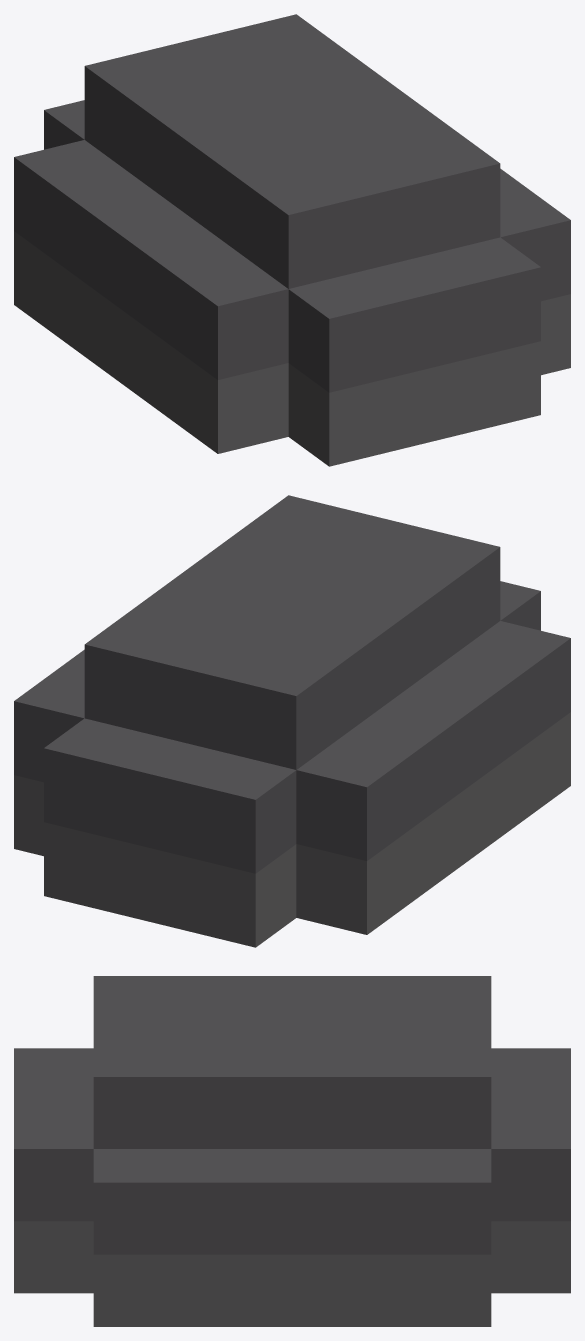
File: character_human-5-leg_l.obj
The picture shows the model from 3 angles, top to bottom: view 1: azimuth 30°, elevation 25°; view 2: azimuth 150°, elevation 25°; view 3: azimuth 270°, elevation 25°; orthographic projection. The views are drawn at different scales.
Parts seen in each view (by area): view 1: leg_l; view 2: leg_l; view 3: leg_l.
Boxes of the visible parts, x1=… form: leg_l: x1=14, y1=14, x2=570, y2=466; leg_l: x1=14, y1=495, x2=570, y2=947; leg_l: x1=14, y1=976, x2=570, y2=1326.
Bounding box in the file's own units: 0.5 × 0.3 × 0.7.
Materials: 1 (1 with a texture image).
